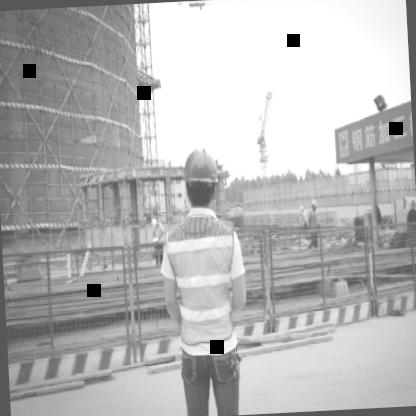helmet: (177, 143, 224, 211), (309, 196, 318, 214)
